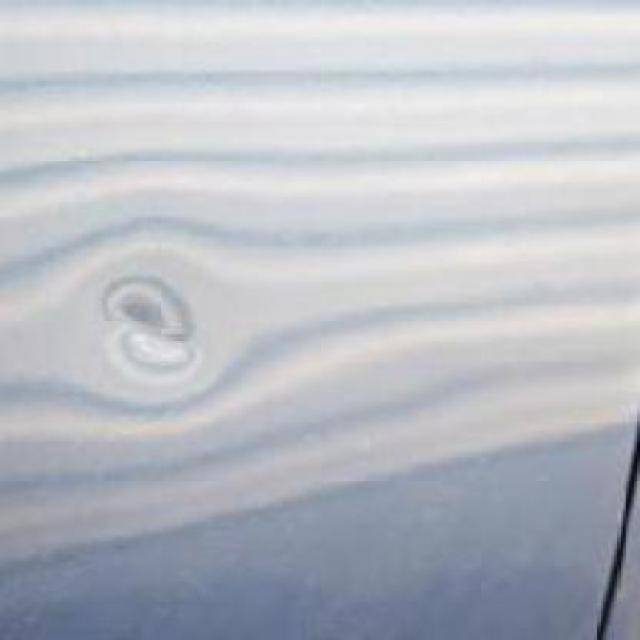dent-or-scratch: (61, 208, 254, 418)
